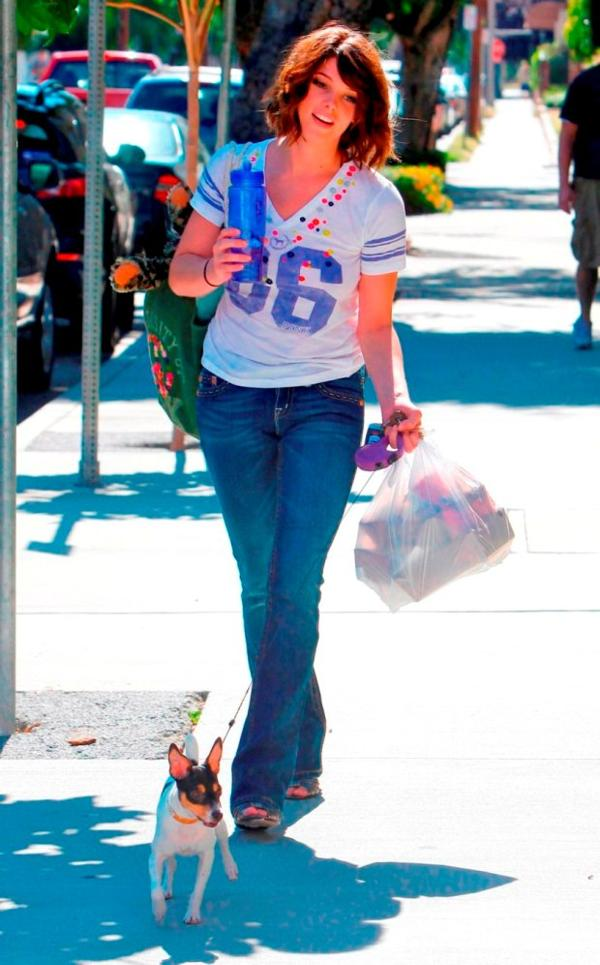person: (171, 24, 424, 840)
